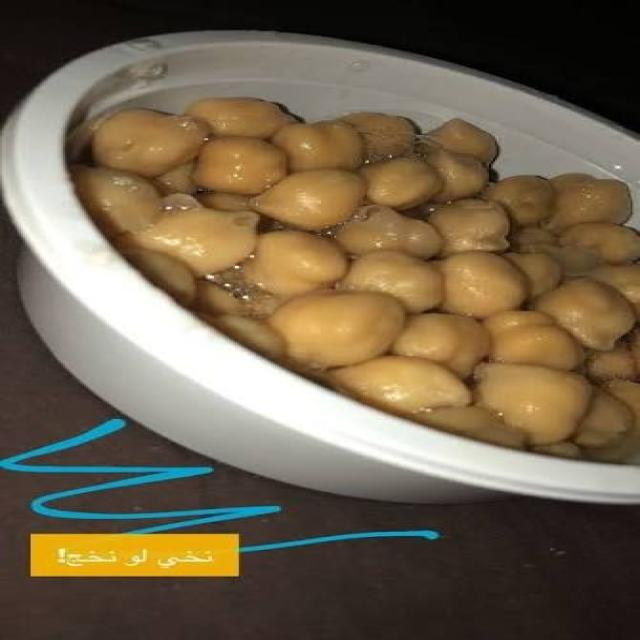Nakhi: (63, 46, 640, 469)
